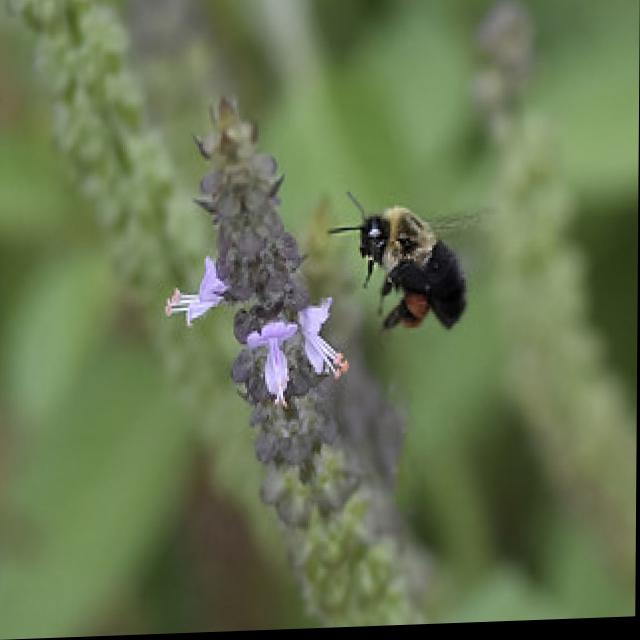Abeille: (325, 165, 514, 359)
